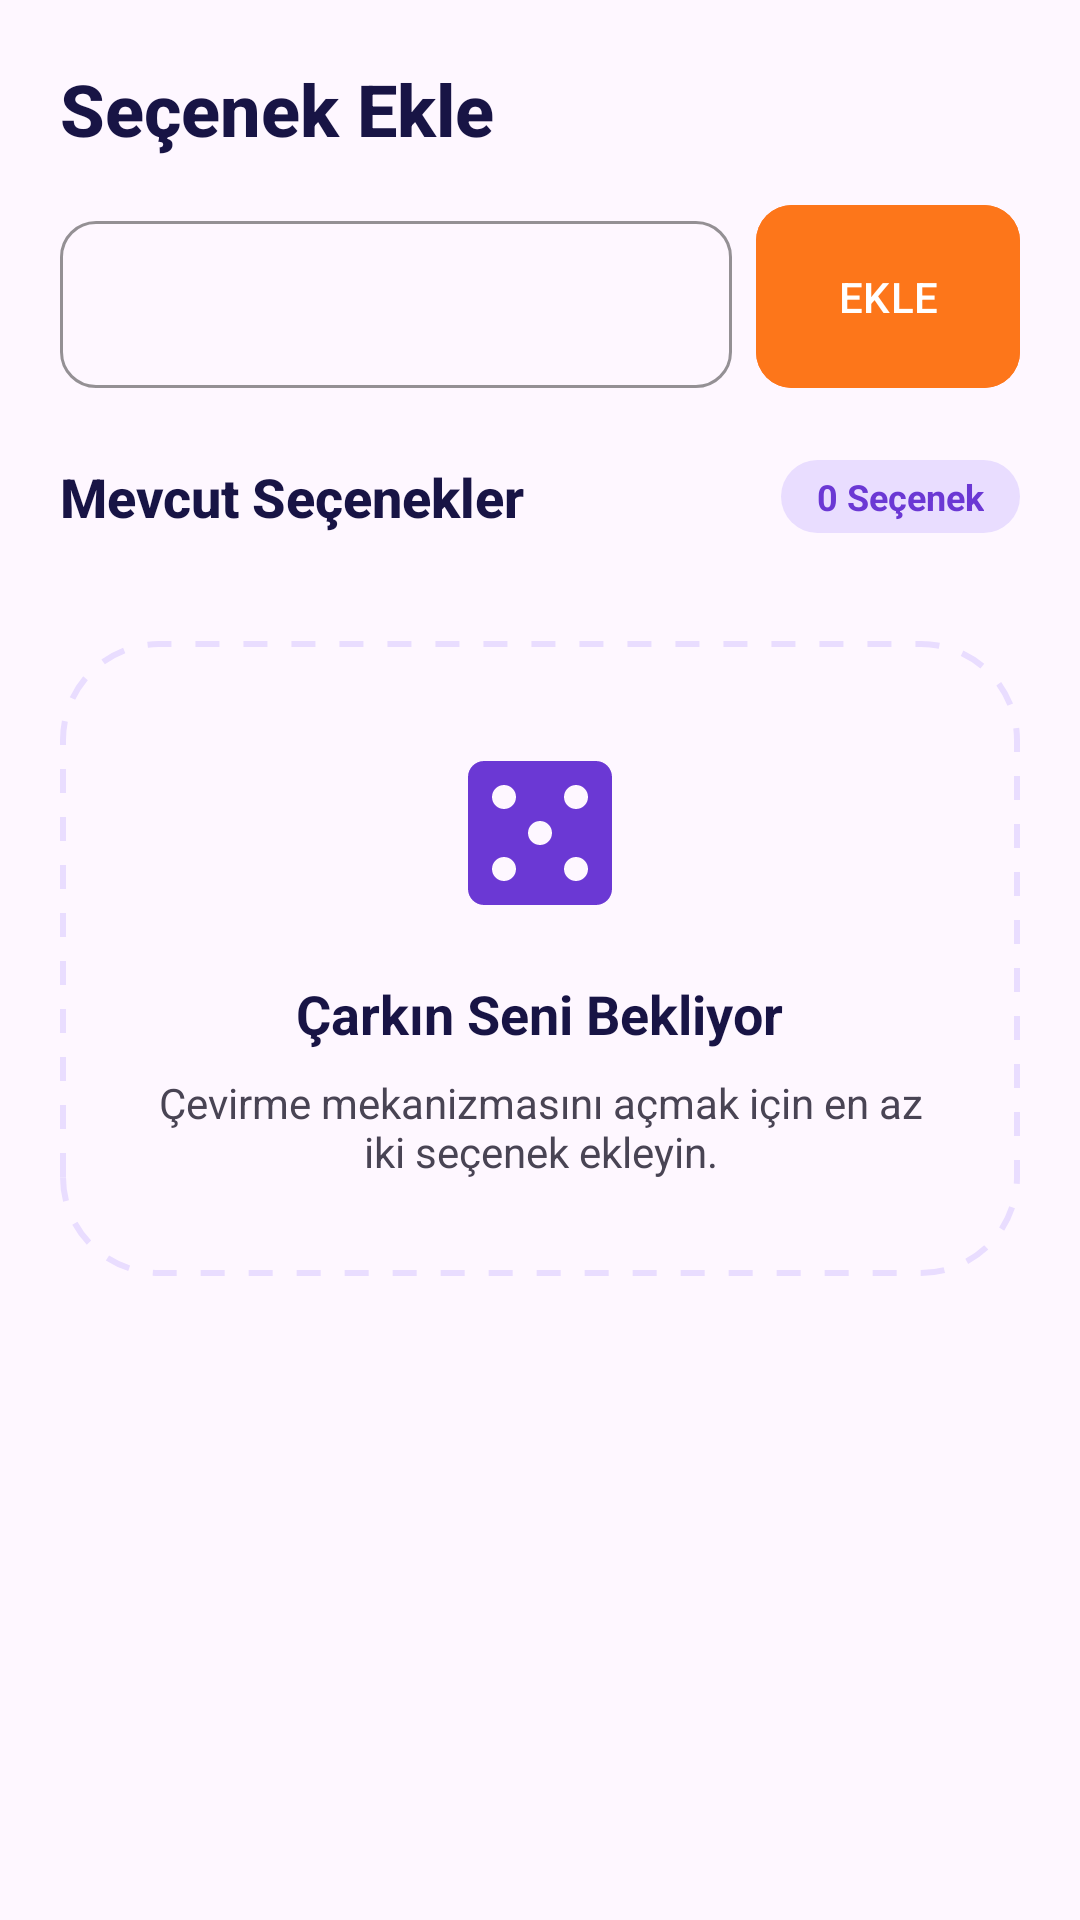

Named icons in this screenshot (1080 × 1920) and their centers, [x,y]:
casino: [540,833]
